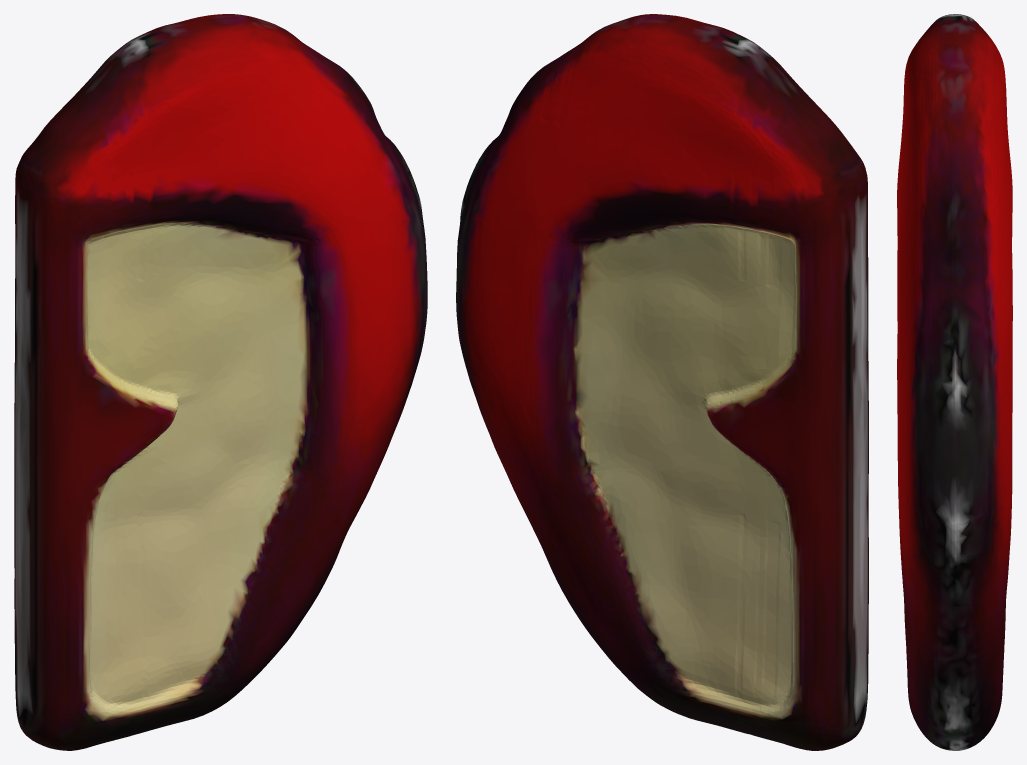
Rendered from apple_fourth.glb.
3 views of the same model, side by side, from view 1: azimuth 30°, elevation 25°; view 2: azimuth 150°, elevation 25°; view 3: azimuth 270°, elevation 25° (orthographic). The views are drawn at different scales.
Visible parts, largest first — view 1: geometry_0; view 2: geometry_0; view 3: geometry_0.
Part boxes in pixels (x1,y1,x2,y2): geometry_0: [14, 14, 427, 750]; geometry_0: [456, 14, 868, 750]; geometry_0: [897, 14, 1012, 750].
Bounding box in the file's own units: 0.2812 × 0.4615 × 0.068.
